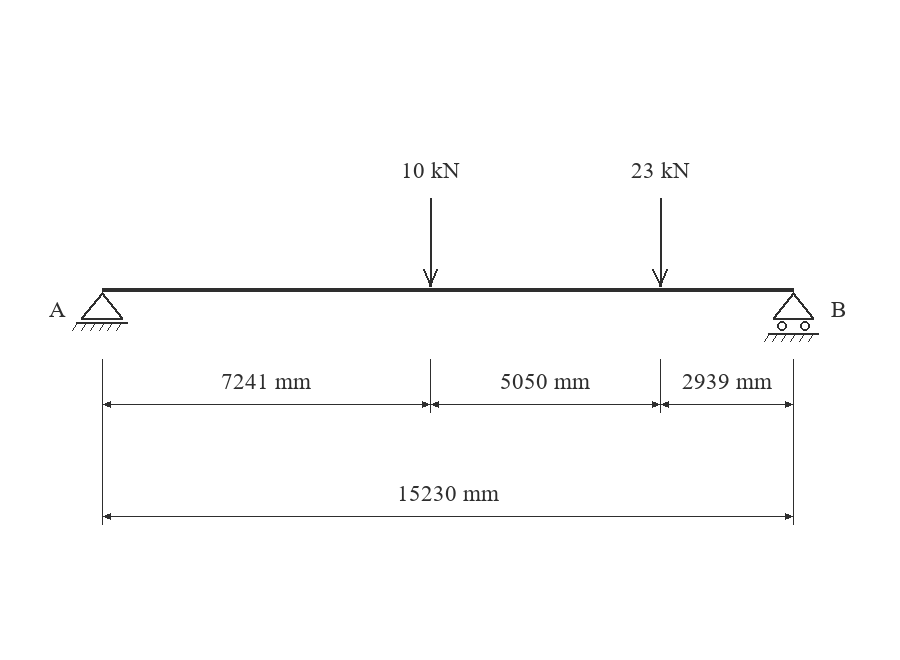pin_support: (72, 292, 128, 331)
point_load: (652, 198, 668, 287), (423, 198, 438, 287)
roller_support: (764, 292, 819, 342)
